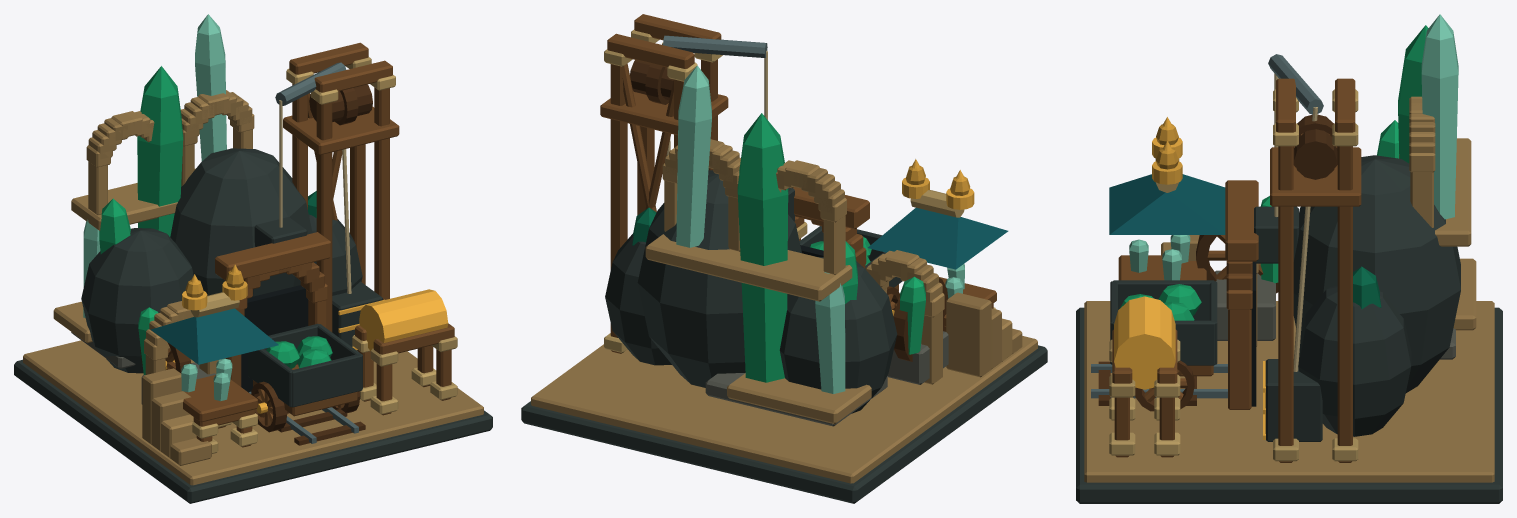
3 renders of one model, left to right at view 1: azimuth 30°, elevation 25°; view 2: azimuth 150°, elevation 25°; view 3: azimuth 270°, elevation 25°, orthographic. The views are drawn at different scales.
Parts seen in each view (by area): view 1: gem_mine_14_structure, gem_mine_14_metal; view 2: gem_mine_14_structure, gem_mine_14_metal; view 3: gem_mine_14_structure, gem_mine_14_metal.
Part boxes in pixels (box(x1,y1,x2,y2)): gem_mine_14_structure: box(14, 14, 492, 503); gem_mine_14_metal: box(165, 264, 448, 413); gem_mine_14_structure: box(521, 14, 1047, 503); gem_mine_14_metal: box(892, 159, 974, 315); gem_mine_14_structure: box(1076, 14, 1502, 503); gem_mine_14_metal: box(1114, 117, 1265, 439).
Size of the model in its own units: 3.6 by 3.83 by 3.6.
